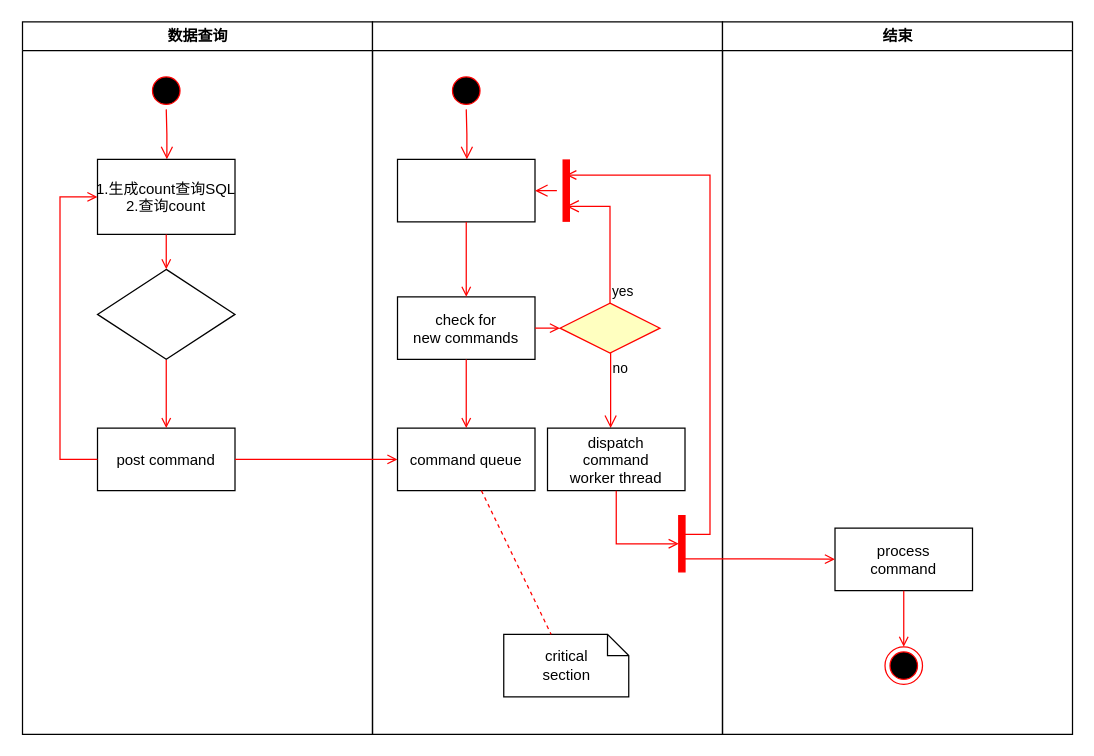
This 1094x756 diagram has some shape labels left out. Each missing label, with the box of its shape:
idle: (396, 158, 535, 222)
queue empty: (559, 302, 660, 353)
判断count是否超过2W: (96, 268, 235, 359)
数据处理: (371, 21, 722, 734)
